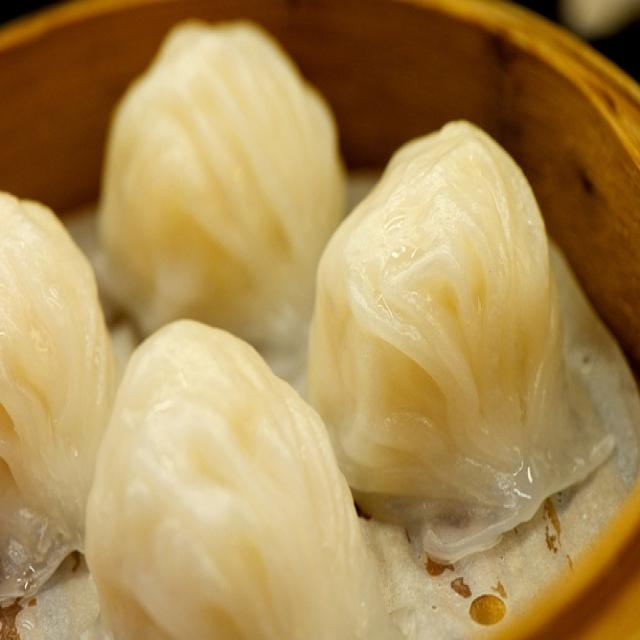带馅早点: (20, 16, 612, 637)
